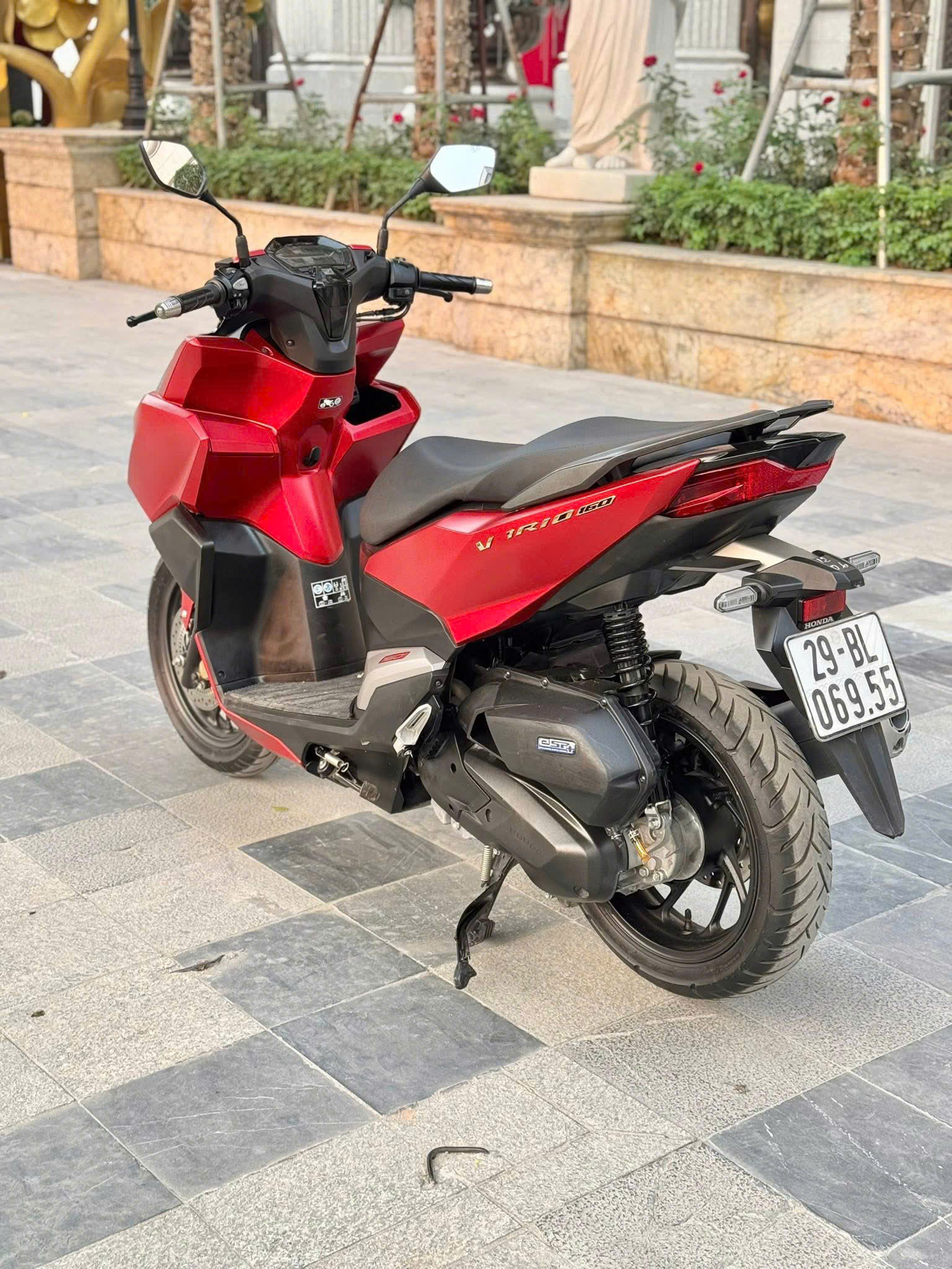Bien-so: (781, 616, 910, 747)
